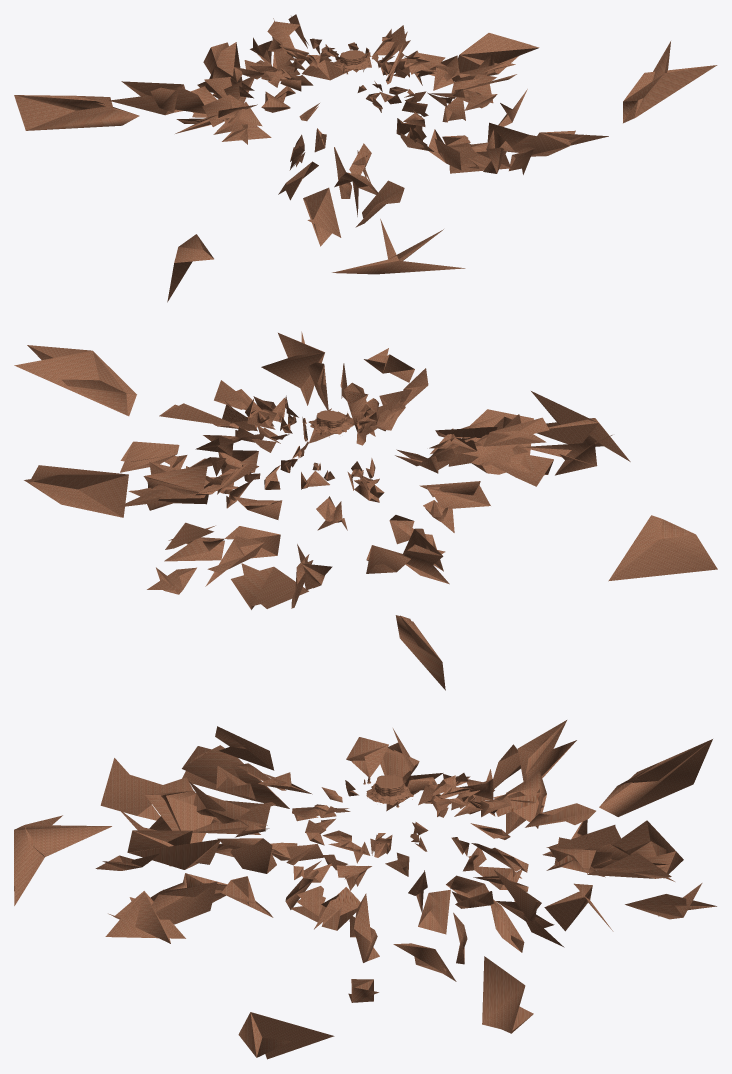
File: table-mesa.glb
3 renders of one model, top to bottom at view 1: azimuth 30°, elevation 25°; view 2: azimuth 150°, elevation 25°; view 3: azimuth 270°, elevation 25°, orthographic. The views are drawn at different scales.
Visible parts, largest first — view 1: table-mesa; view 2: table-mesa; view 3: table-mesa.
Boxes of the visible parts, x1,y1,x2,y2 form: table-mesa: (14, 14, 717, 302); table-mesa: (14, 331, 717, 690); table-mesa: (14, 720, 716, 1059).
Size of the model in its own units: 11293 by 2377 by 8833.
2 materials, 1 textured.
